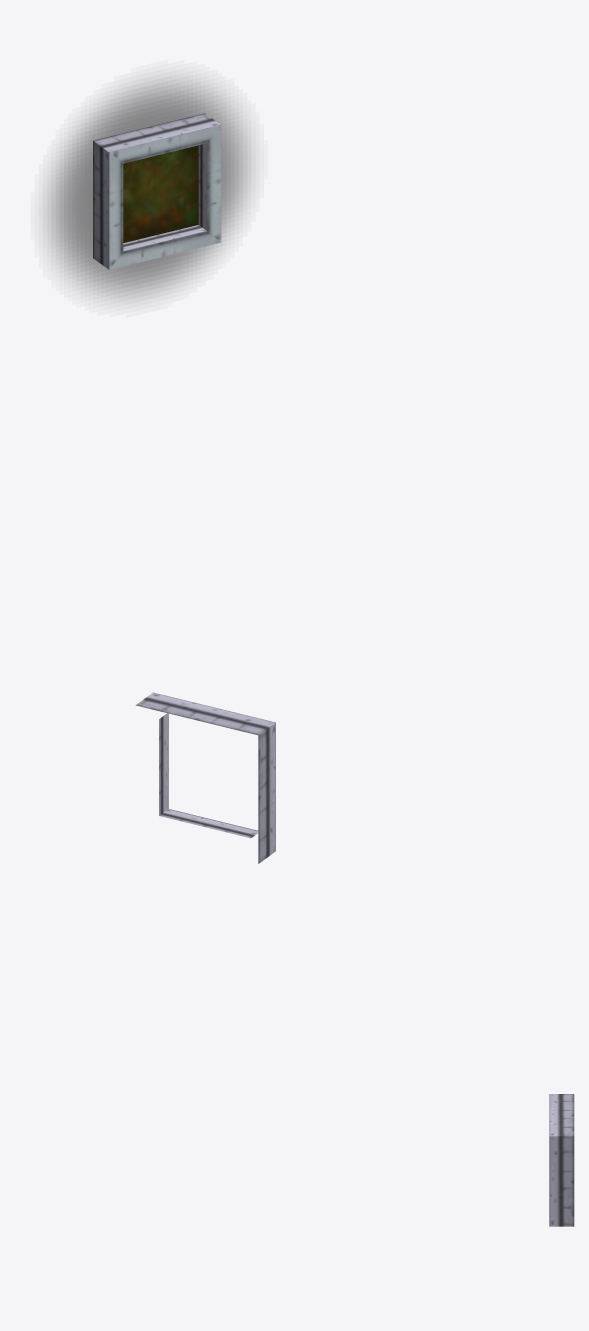
Rendered from prop_snow_tree_large_brickbox_ur.glb.
3 renders of one model, top to bottom at view 1: azimuth 30°, elevation 25°; view 2: azimuth 150°, elevation 25°; view 3: azimuth 270°, elevation 25°, orthographic. The views are drawn at different scales.
Visible parts, largest first — view 1: shadow_snow_tree_large_brickbox_ur, tree_box_planter_bricks_1; view 2: tree_box_planter_bricks_1; view 3: tree_box_planter_bricks_1.
Part boxes in pixels (x1,y1,x2,y2): shadow_snow_tree_large_brickbox_ur: [47, 77, 250, 300]; tree_box_planter_bricks_1: [93, 113, 221, 269]; tree_box_planter_bricks_1: [135, 692, 275, 863]; tree_box_planter_bricks_1: [549, 1094, 574, 1226].
Size of the model in its own units: 13.99 by 12.32 by 29.17.
Materials: 5 (5 with a texture image).
